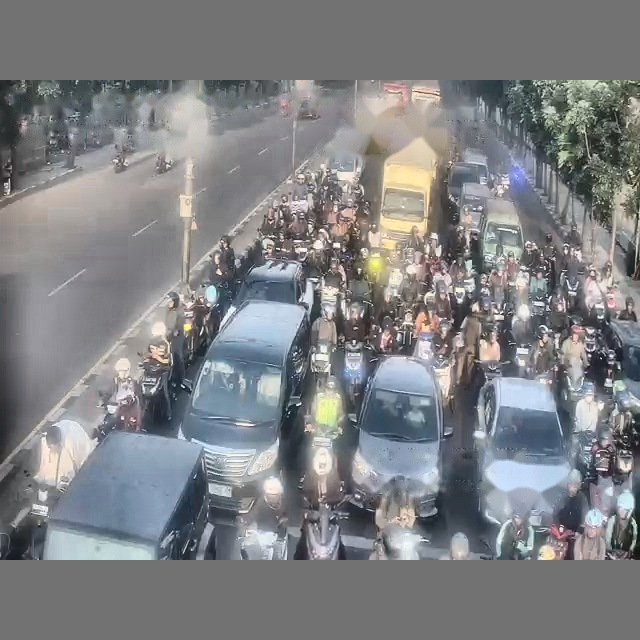Mobil: (178, 300, 309, 513), (43, 432, 214, 559), (350, 355, 452, 518), (473, 377, 571, 531), (220, 260, 314, 326), (603, 319, 639, 433), (443, 162, 480, 213), (461, 148, 489, 184), (297, 99, 319, 119)
Motor: (24, 478, 69, 559), (343, 340, 366, 405), (310, 341, 333, 387), (112, 156, 128, 172)
Truk: (379, 137, 438, 249)
